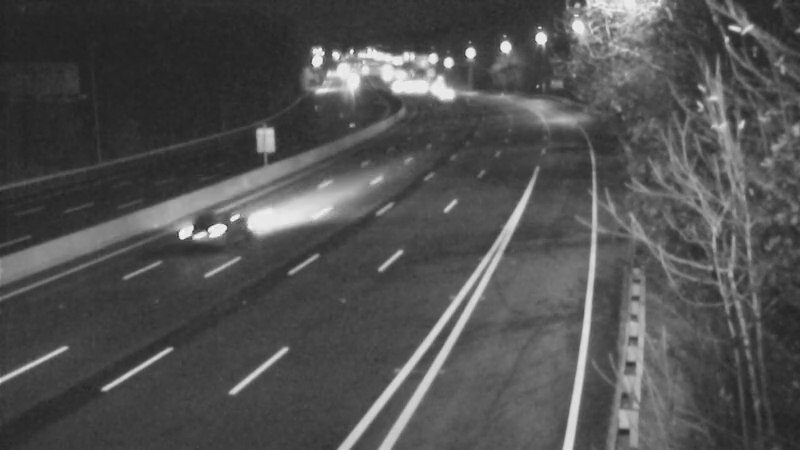vehicle: (165, 193, 245, 273), (423, 69, 473, 119), (327, 56, 377, 106)
